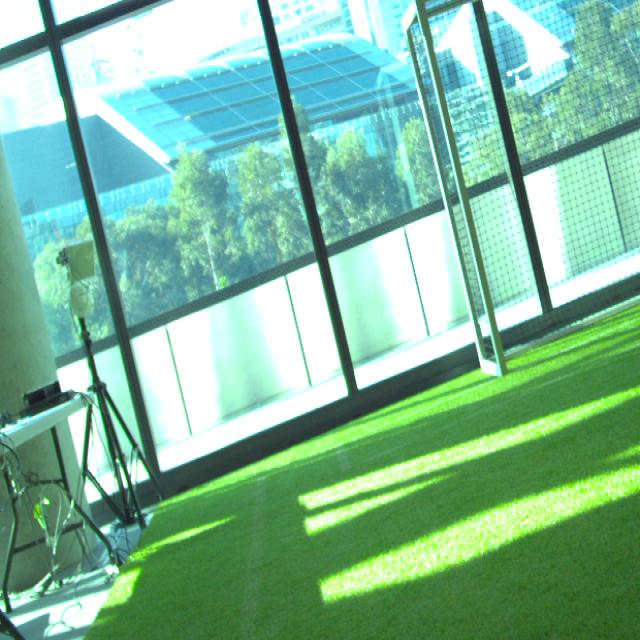goalpost: (411, 0, 508, 376)
